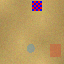person: (26, 43, 34, 52)
vehicle: (49, 43, 60, 56)
